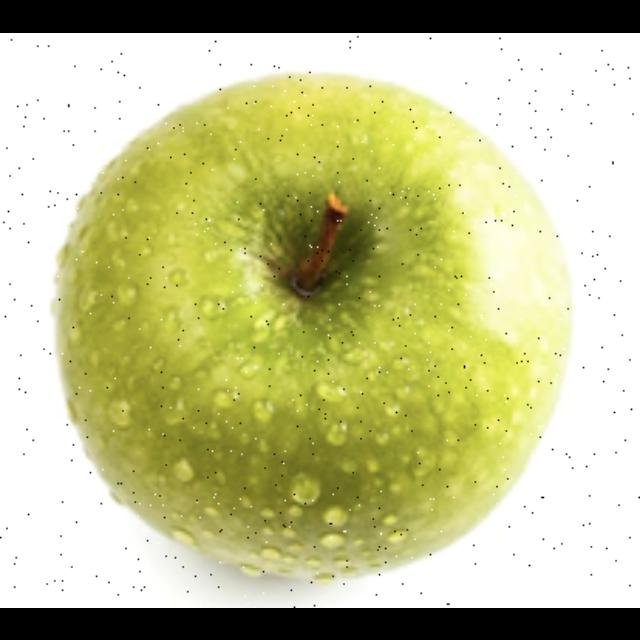Apel Segar: (46, 59, 580, 586)
